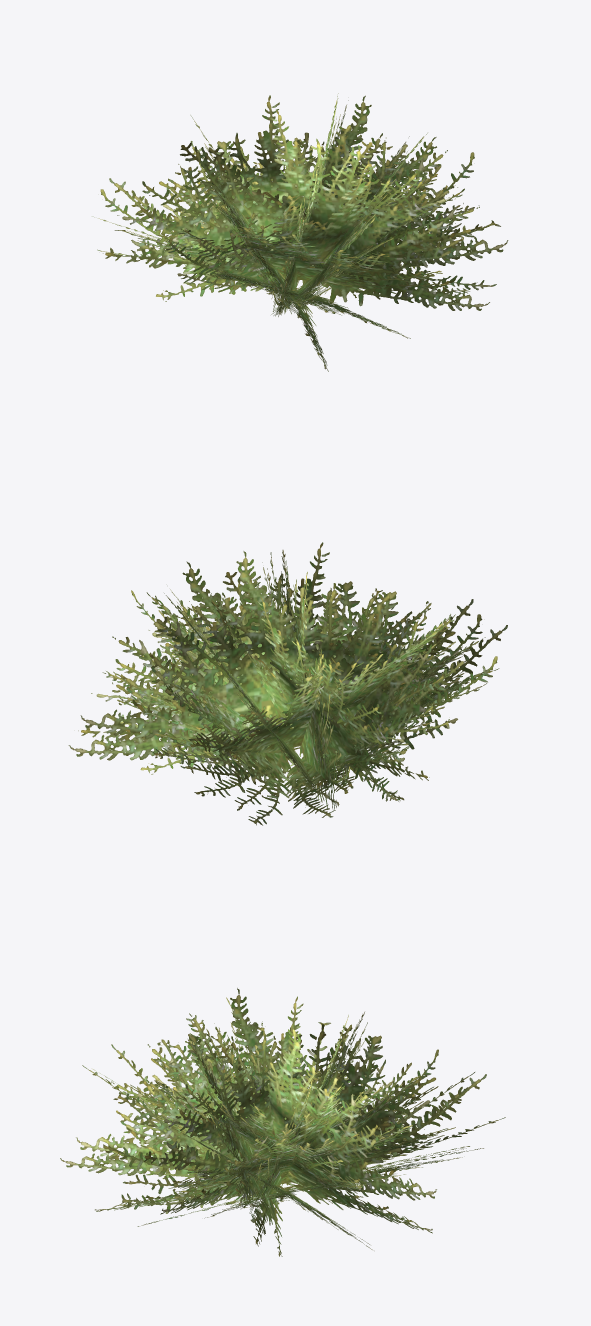
The model's file is shrb_arid_green_a3_l0.fbx.
The picture shows the model from 3 angles, top to bottom: view 1: azimuth 30°, elevation 25°; view 2: azimuth 150°, elevation 25°; view 3: azimuth 270°, elevation 25°; orthographic projection. The views are drawn at different scales.
Parts seen in each view (by area): view 1: mesh_node; view 2: mesh_node; view 3: mesh_node.
Part boxes in pixels (<box>): mesh_node: <box>92,93,508,371</box>; mesh_node: <box>68,542,507,825</box>; mesh_node: <box>60,988,505,1256</box>.
Bounding box in the file's own units: 2.64 × 1.34 × 2.65.
